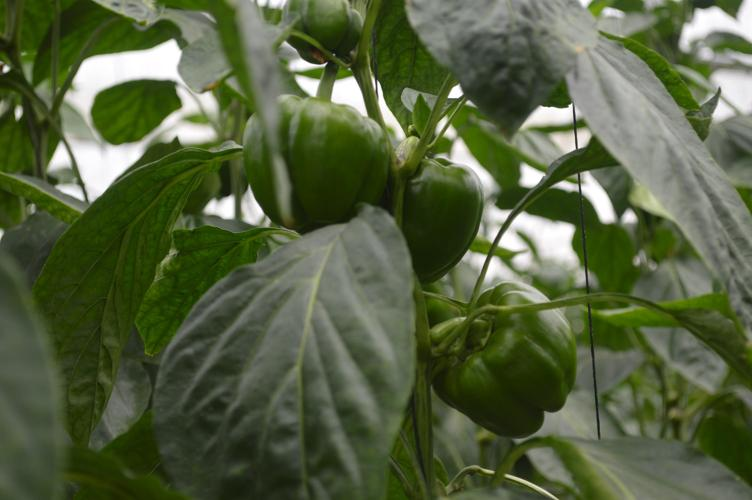BellPepper: (240, 94, 399, 254), (435, 291, 593, 435), (380, 139, 483, 294), (268, 1, 369, 69)
